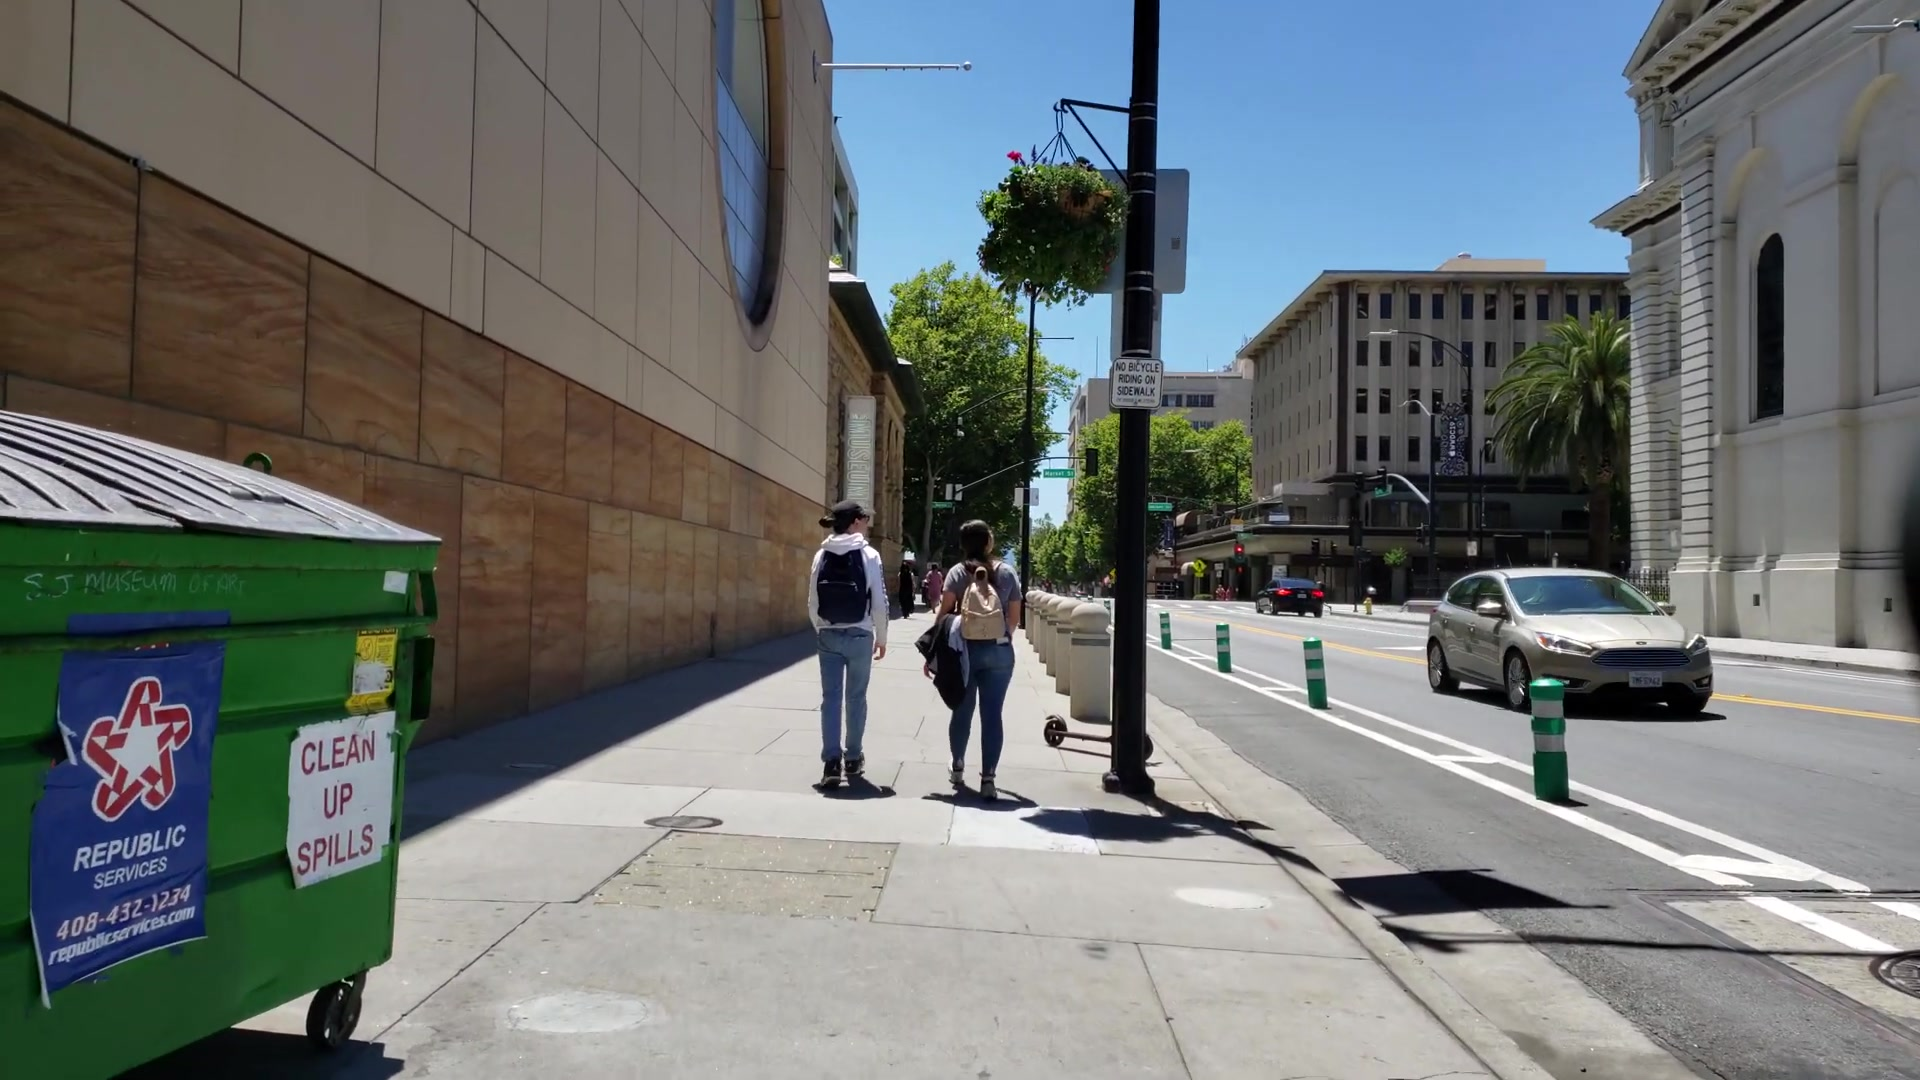vehicle: (1424, 564, 1714, 712), (1262, 579, 1321, 618)
